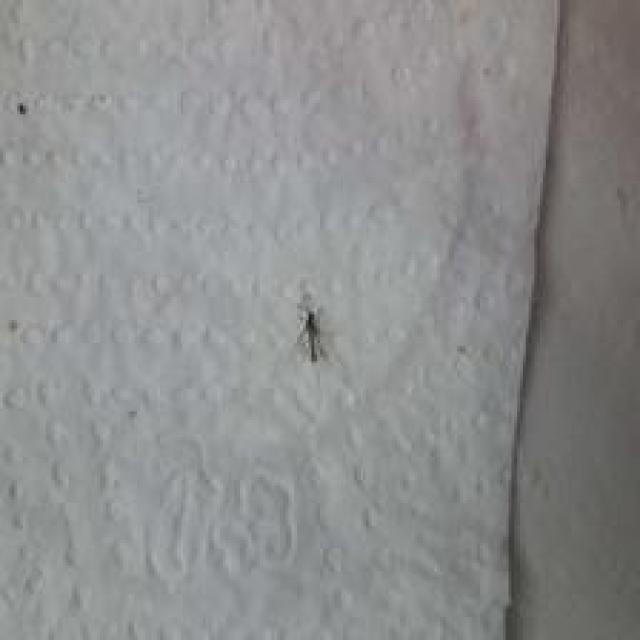Culex: (293, 291, 327, 363)
